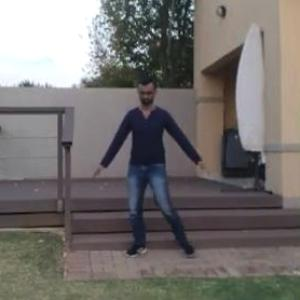land: (105, 77, 219, 266)
